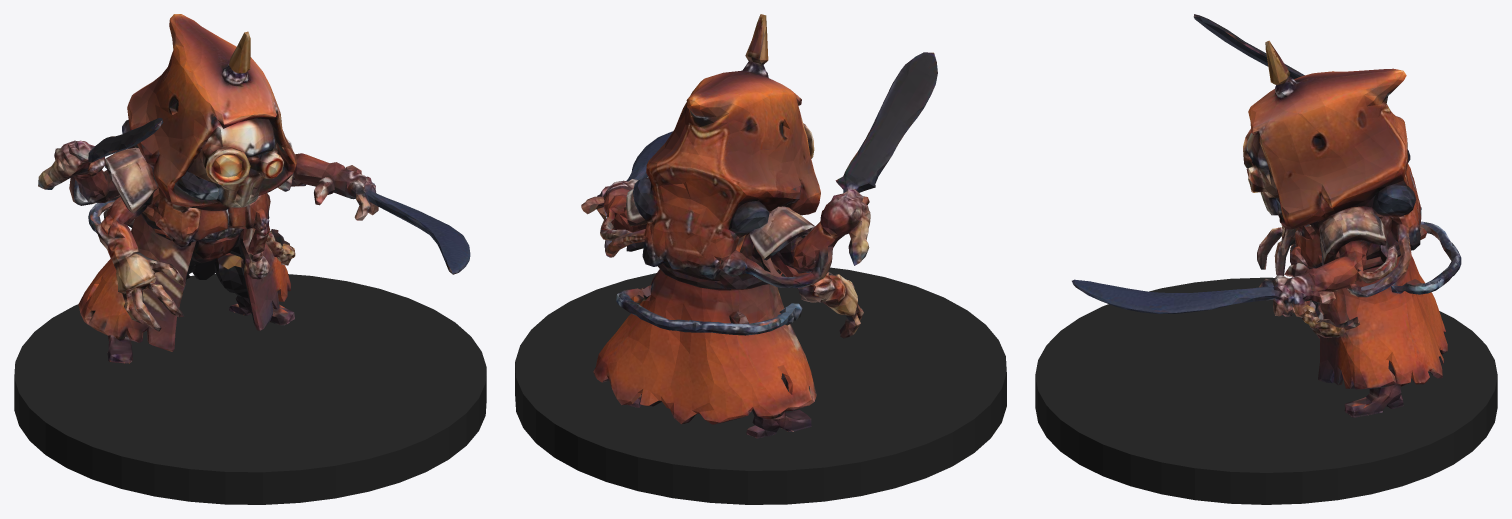
The model's file is hc-sicarian-ruststalker-princeps.glb.
3 views of the same model, side by side, from view 1: azimuth 30°, elevation 25°; view 2: azimuth 150°, elevation 25°; view 3: azimuth 270°, elevation 25° (orthographic). The views are drawn at different scales.
Parts seen in each view (by area): view 1: base, figure; view 2: figure, base; view 3: base, figure.
Part boxes in pixels (<box>): base: <box>14,274,486,504</box>; figure: <box>38,14,470,363</box>; figure: <box>581,14,937,438</box>; base: <box>515,267,1006,504</box>; base: <box>1035,277,1497,504</box>; figure: <box>1072,14,1461,417</box>.
Bounding box in the file's own units: 1.57 × 1.37 × 1.57.
Materials: 2 (1 with a texture image).
